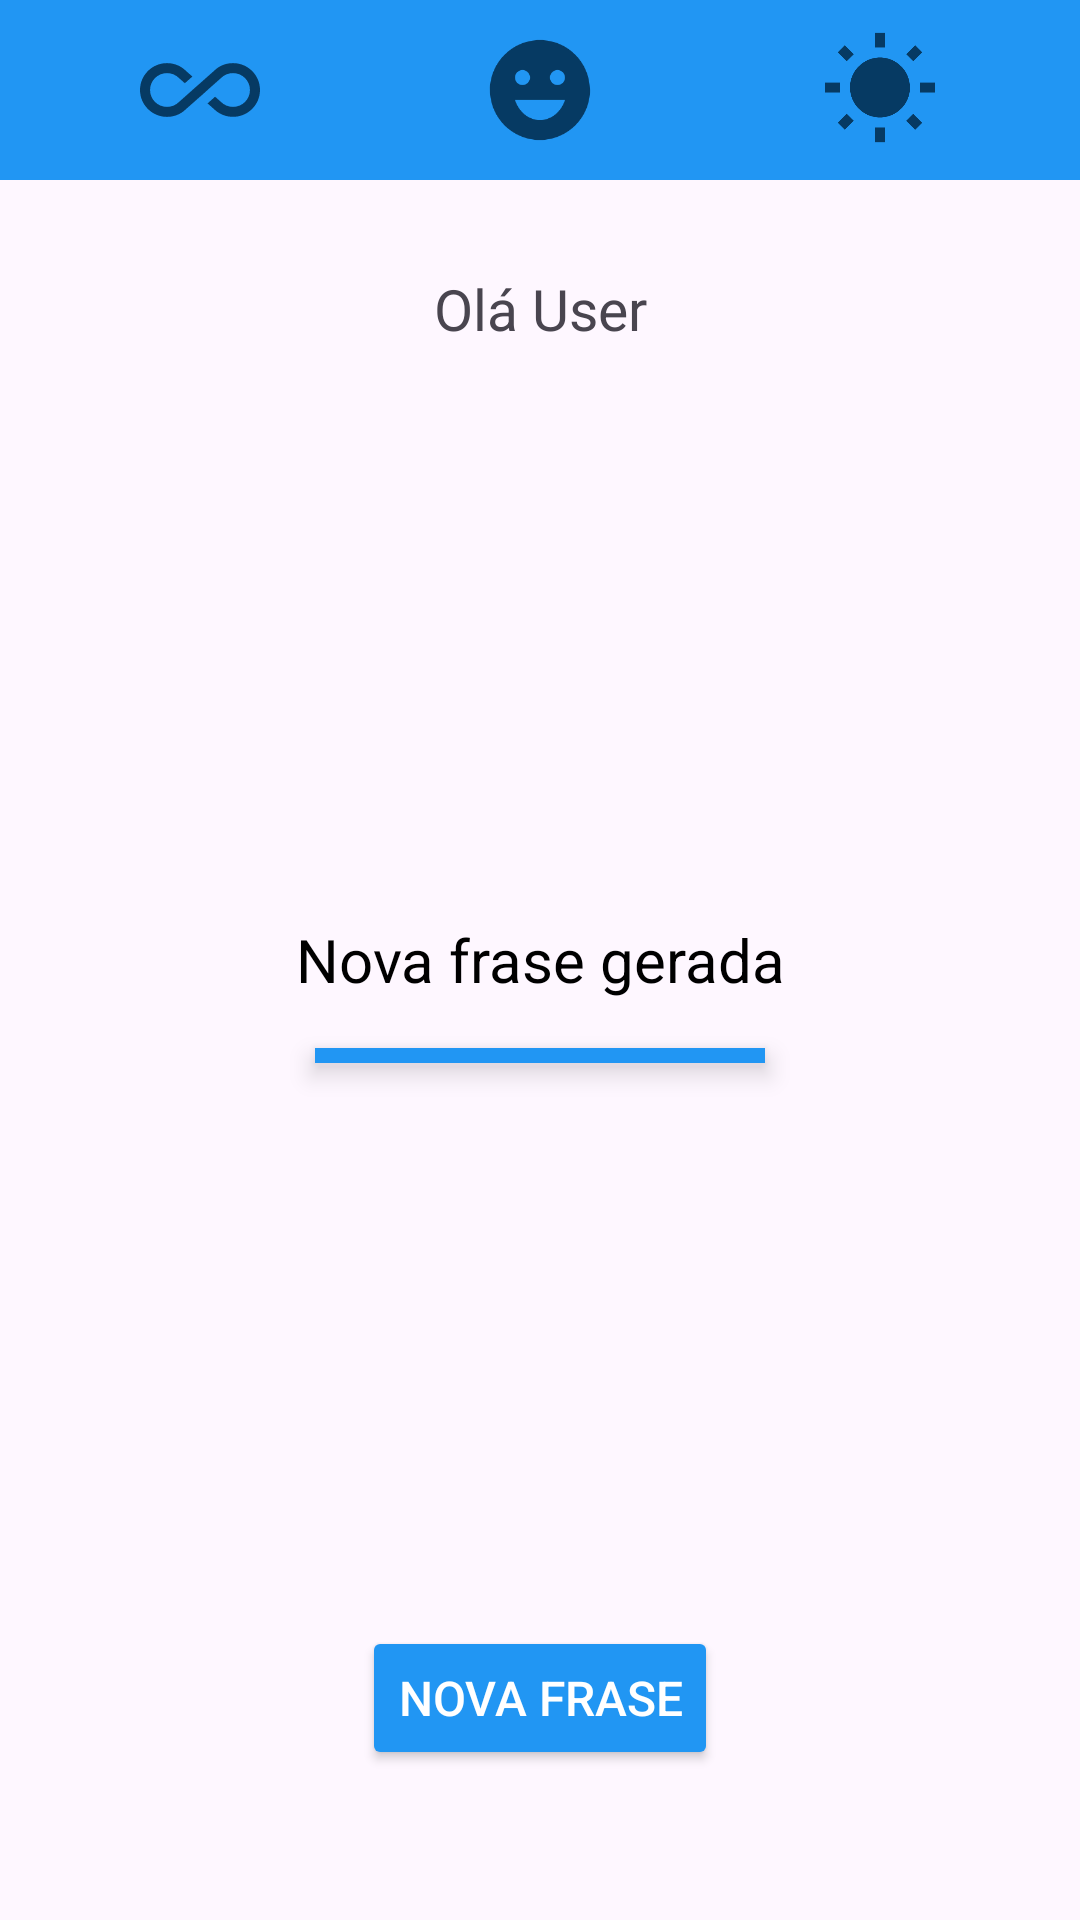

Icons on this 1080×1920 Android screen, each with its box as rect(x1, y1, x2, y2):
all inclusive: rect(140, 63, 260, 117)
emoji emotions: rect(490, 40, 590, 140)
sunny: rect(825, 33, 935, 142)
